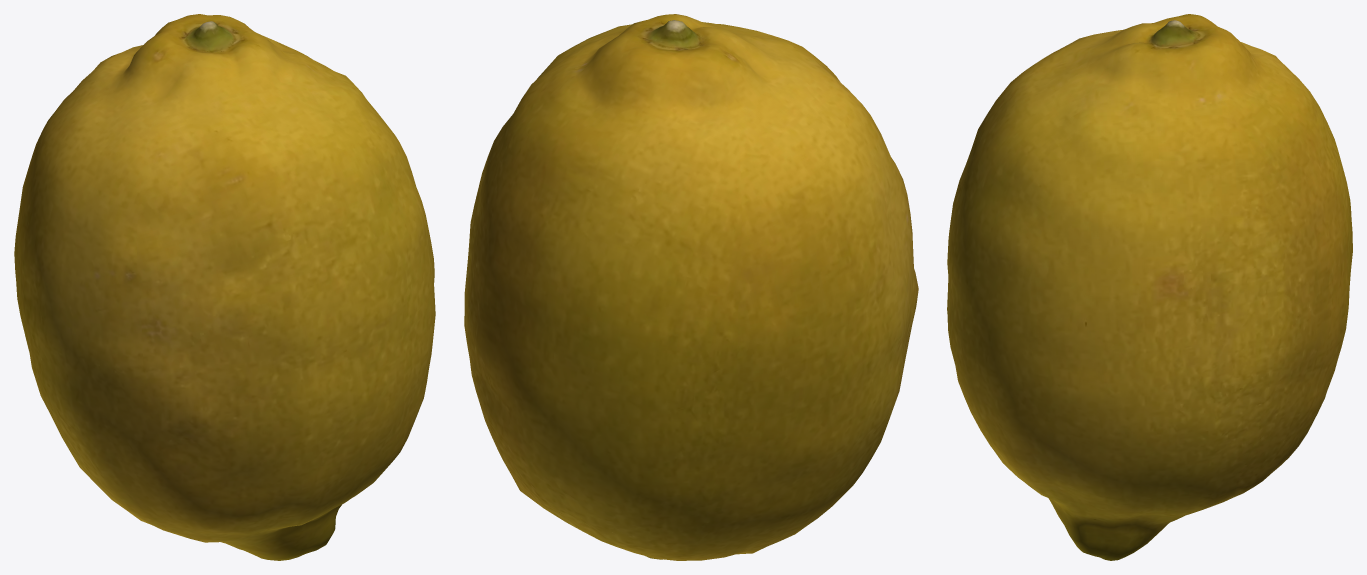
Rendered from lemon-transformed.glb.
3 renders of one model, left to right at view 1: azimuth 30°, elevation 25°; view 2: azimuth 150°, elevation 25°; view 3: azimuth 270°, elevation 25°, orthographic. The views are drawn at different scales.
Visible parts, largest first — view 1: lemon; view 2: lemon; view 3: lemon.
Boxes of the visible parts, x1,y1,x2,y2 form: lemon: (14,14,435,560); lemon: (464,14,918,560); lemon: (947,14,1352,560).
Size of the model in its own units: 0.0687 by 0.0954 by 0.0683.
1 material, 1 textured.
